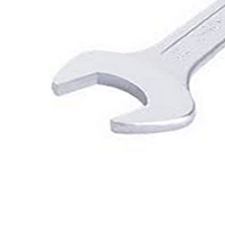Wrench: (45, 1, 225, 147)
